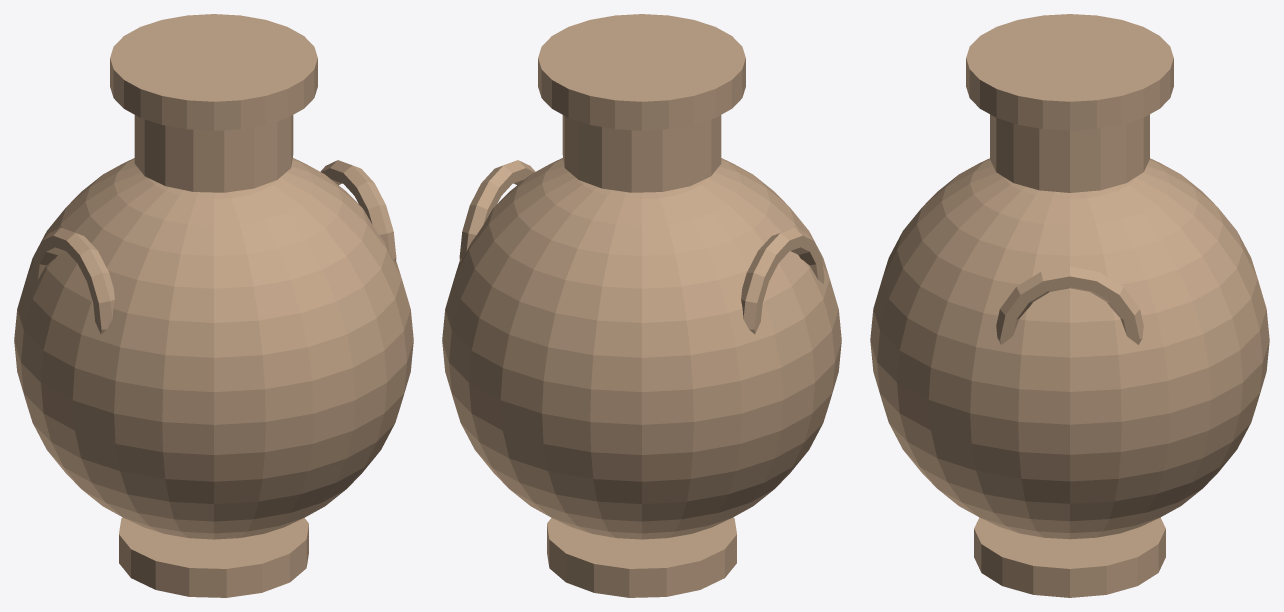
The model's file is ClayUrn.fbx.
3 views of the same model, side by side, from view 1: azimuth 30°, elevation 25°; view 2: azimuth 150°, elevation 25°; view 3: azimuth 270°, elevation 25° (orthographic).
Parts seen in each view (by area): view 1: ClayUrn; view 2: ClayUrn; view 3: ClayUrn.
Part boxes in pixels (x1,y1,x2,y2): ClayUrn: (14, 14, 413, 597); ClayUrn: (442, 14, 841, 597); ClayUrn: (870, 14, 1269, 597).
Bounding box in the file's own units: 50 × 69 × 50.
